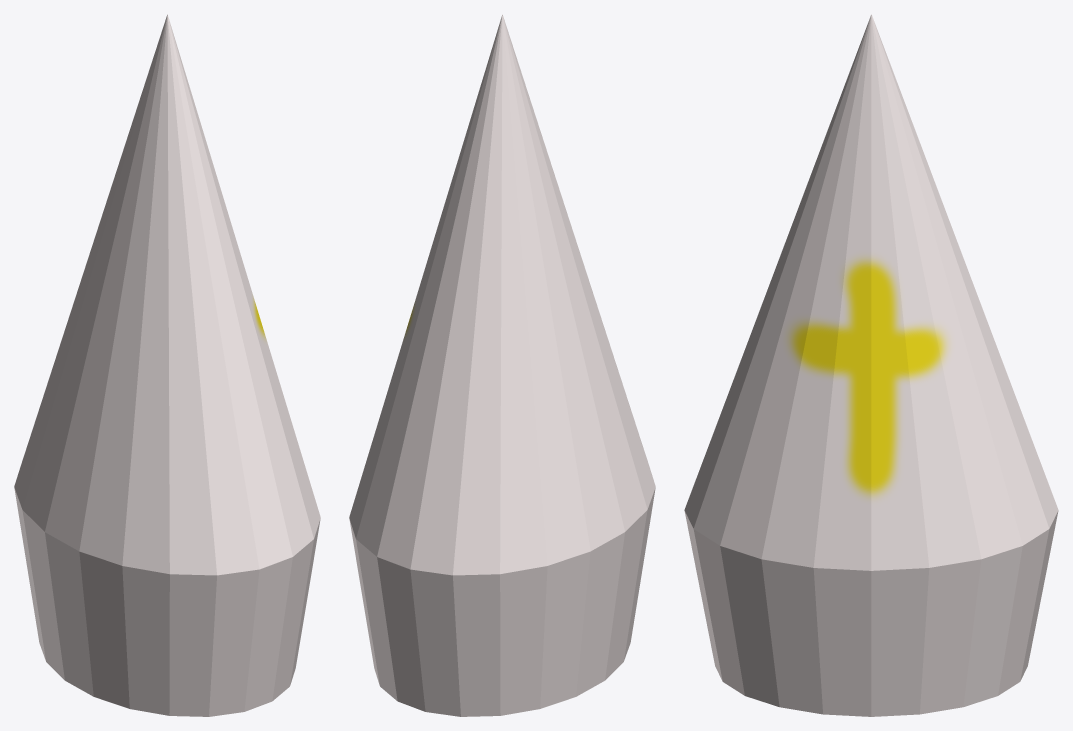
Rendered from czapka.fbx.
3 renders of one model, left to right at view 1: azimuth 30°, elevation 25°; view 2: azimuth 150°, elevation 25°; view 3: azimuth 270°, elevation 25°, orthographic.
Parts seen in each view (by area): view 1: Cone; view 2: Cone; view 3: Cone.
Part boxes in pixels (x1=…): Cone: x1=14, y1=14, x2=320, y2=716; Cone: x1=349, y1=14, x2=655, y2=716; Cone: x1=684, y1=14, x2=1058, y2=716.
Size of the model in its own units: 100 by 250 by 130.
